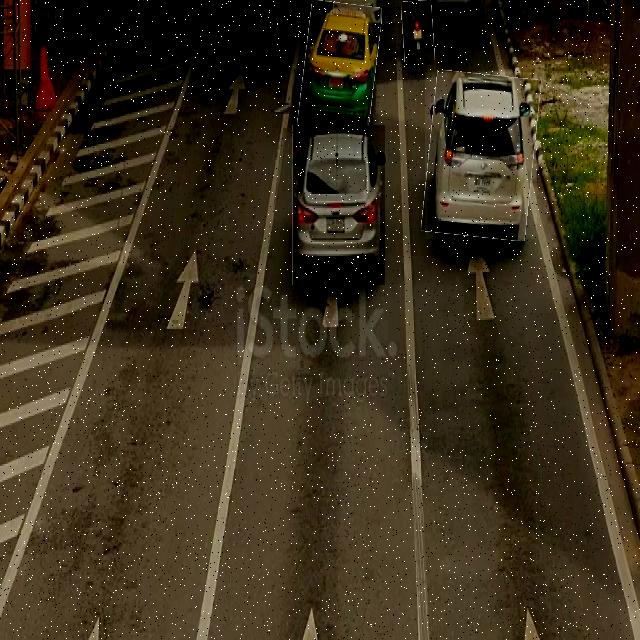Car: (425, 72, 537, 239), (292, 125, 385, 285), (301, 1, 378, 131)
Motorcycle: (402, 0, 434, 65)
